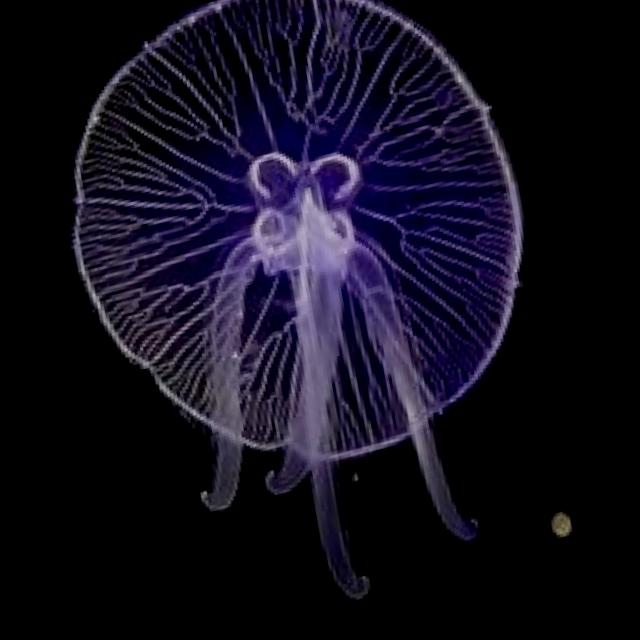Moon-jellyfish: (28, 0, 596, 638)
